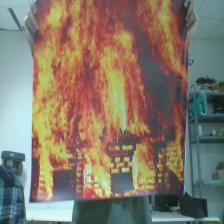fire-poster: (30, 1, 188, 202)
